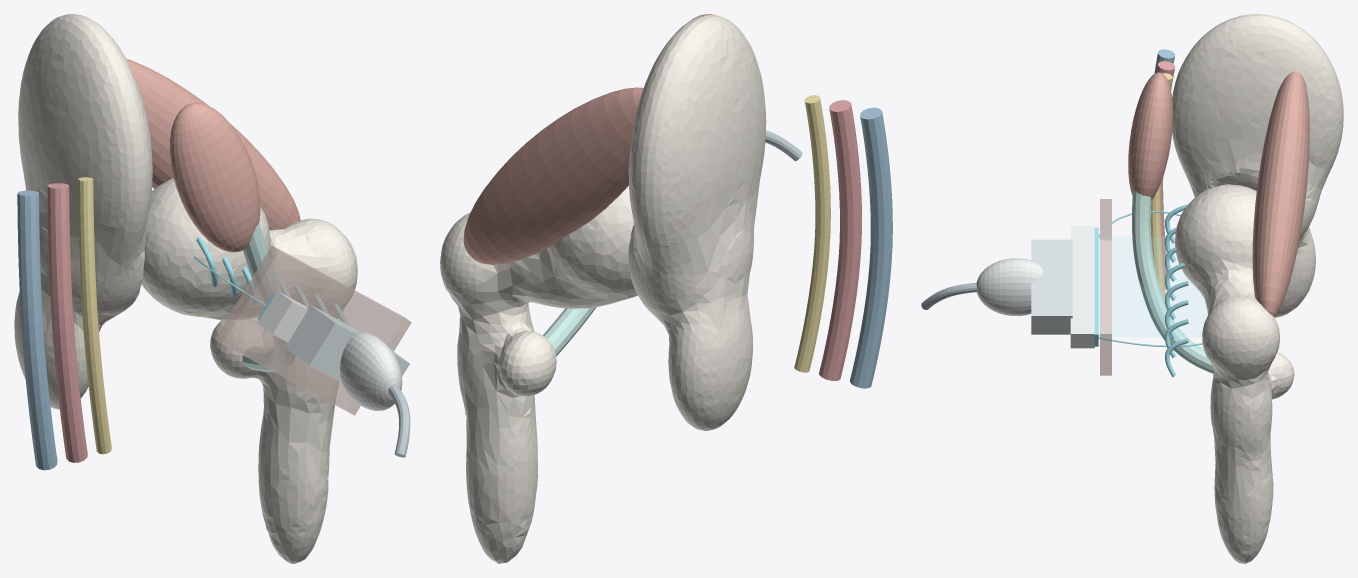
File: hip-long.glb
3 renders of one model, left to right at view 1: azimuth 30°, elevation 25°; view 2: azimuth 150°, elevation 25°; view 3: azimuth 270°, elevation 25°, orthographic. The views are drawn at different scales.
Parts seen in each view (by area): view 1: Femur, Hemipelvis - partial, Local skin contact patch - surrounding skin omitted, Iliopsoas - partial, Femoral vein, Femoral artery, Gluteus medius - partial, Femoral nerve, Transducer grip, Transducer body, Iliopsoas tendon, Transducer head (+1 smaller); view 2: Hemipelvis - partial, Femur, Gluteus medius - partial, Femoral vein, Femoral artery, Femoral nerve, Iliopsoas tendon; view 3: Femur, Hemipelvis - partial, Gluteus medius - partial, Illustrative imaging plane - not a simulated sonogram, Iliopsoas - partial, Transducer body, Iliopsoas tendon, Transducer head, Transducer grip, Local skin contact patch - surrounding skin omitted, Femoral nerve, Transducer acoustic face (+2 smaller).
Boxes of the visible parts, x1,y1,x2,y2 form: Femur: (141, 178, 357, 563); Hemipelvis - partial: (14, 14, 152, 409); Local skin contact patch - surrounding skin omitted: (215, 245, 411, 415); Iliopsoas - partial: (170, 103, 260, 252); Femoral vein: (17, 190, 57, 470); Femoral artery: (47, 183, 87, 462); Gluteus medius - partial: (126, 58, 300, 229); Femoral nerve: (78, 177, 111, 454); Transducer grip: (340, 332, 402, 410); Transducer body: (284, 304, 409, 382); Iliopsoas tendon: (242, 223, 295, 372); Transducer head: (257, 291, 307, 342); Hemipelvis - partial: (628, 15, 766, 430); Femur: (440, 186, 637, 563); Gluteus medius - partial: (463, 87, 643, 264); Femoral vein: (850, 107, 892, 388); Femoral artery: (819, 100, 861, 380); Femoral nerve: (794, 95, 830, 372); Iliopsoas tendon: (543, 307, 596, 356); Femur: (1174, 184, 1294, 563); Hemipelvis - partial: (1172, 14, 1343, 317); Gluteus medius - partial: (1252, 71, 1309, 317); Illustrative imaging plane - not a simulated sonogram: (1099, 237, 1207, 336); Iliopsoas - partial: (1128, 72, 1172, 200); Transducer body: (1031, 239, 1072, 334); Iliopsoas tendon: (1132, 190, 1213, 373); Transducer head: (1070, 226, 1094, 348); Transducer grip: (976, 258, 1043, 315); Local skin contact patch - surrounding skin omitted: (1100, 199, 1111, 375); Femoral nerve: (1150, 73, 1172, 299); Transducer acoustic face: (1094, 227, 1098, 346).
Size of the model in its own units: 2.65 by 3.89 by 3.17.
